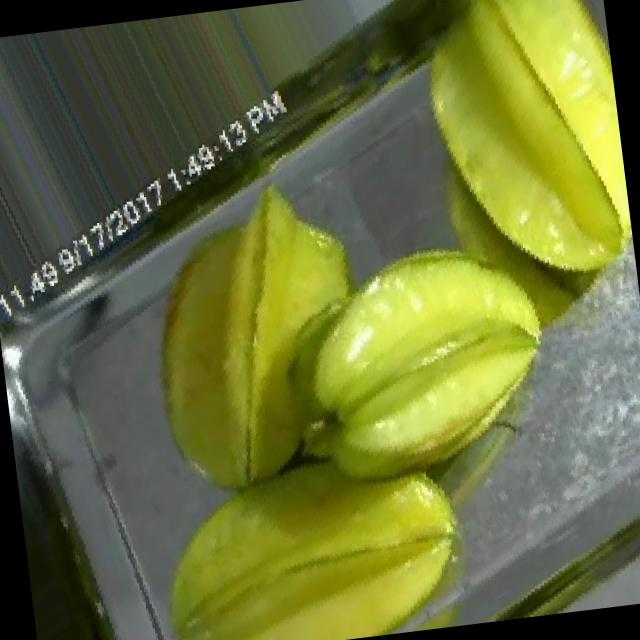fruit: (218, 172, 608, 544), (72, 150, 403, 540), (97, 395, 506, 640), (358, 0, 640, 337)
